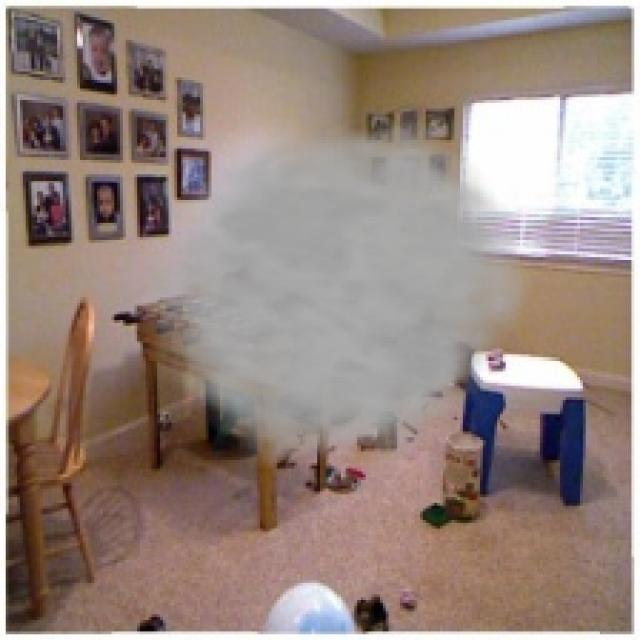Smoke: (126, 106, 543, 468)
